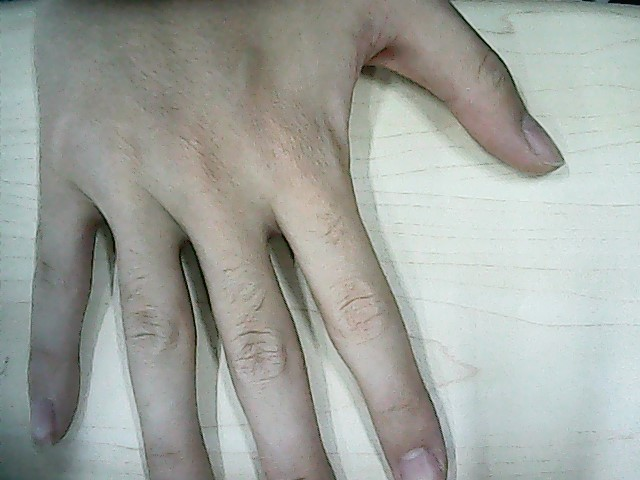nail: (519, 108, 567, 166), (396, 443, 445, 480), (27, 400, 59, 449)
